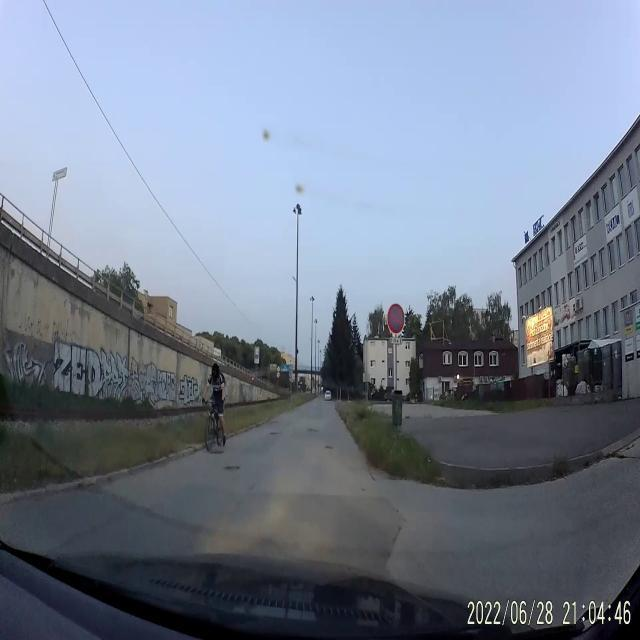Pothole: (222, 461, 240, 474), (307, 426, 320, 434), (324, 443, 334, 453), (270, 430, 282, 438)
